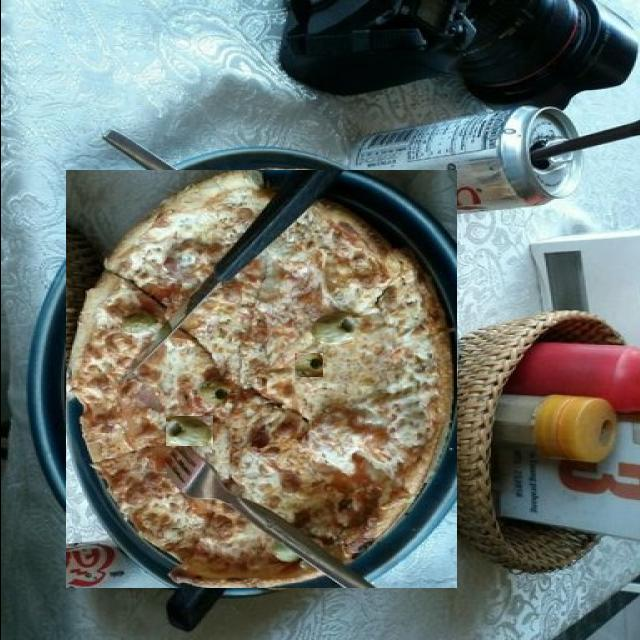olive: (165, 416, 212, 446), (294, 353, 322, 377), (368, 425, 400, 446), (226, 196, 250, 218)
pizza: (65, 171, 456, 588)
